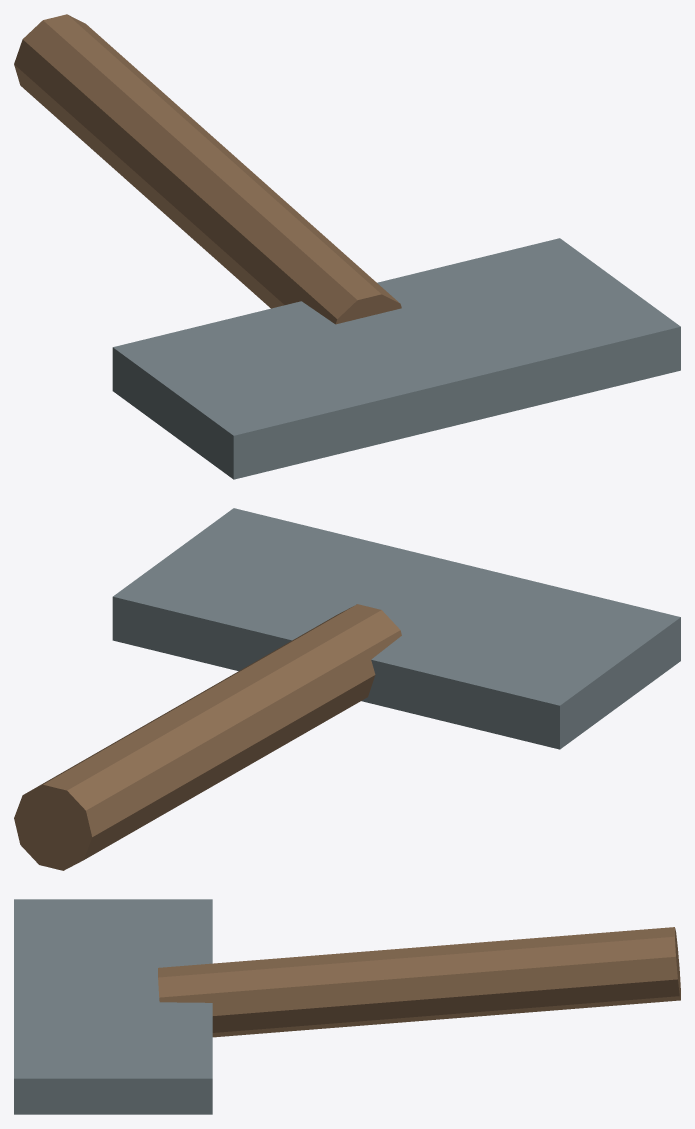
The model's file is L-37_scraper.glb.
3 renders of one model, top to bottom at view 1: azimuth 30°, elevation 25°; view 2: azimuth 150°, elevation 25°; view 3: azimuth 270°, elevation 25°, orthographic. The views are drawn at different scales.
Parts seen in each view (by area): view 1: L-37_scraper; view 2: L-37_scraper; view 3: L-37_scraper.
Boxes of the visible parts, <box> form: L-37_scraper: <box>14,14,680,479</box>; L-37_scraper: <box>14,508,680,870</box>; L-37_scraper: <box>14,899,680,1114</box>.
Size of the model in its own units: 0.16 by 0.0435 by 0.2517.
